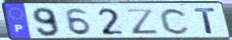2: (97, 7, 126, 36)
6: (65, 7, 94, 37)
9: (30, 6, 62, 38)
C: (159, 7, 192, 36)
T: (193, 7, 218, 35)
Z: (124, 8, 161, 35)
